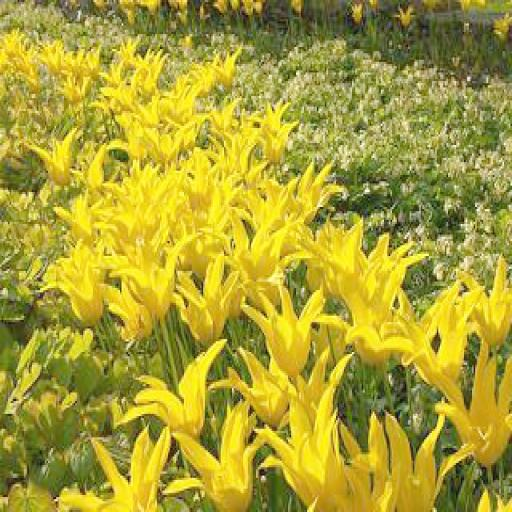tulip: (166, 399, 266, 512), (430, 356, 512, 465), (242, 282, 328, 378), (40, 241, 109, 324), (178, 252, 238, 341), (29, 128, 80, 183)
